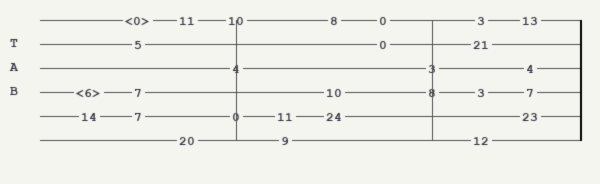0: (232, 110, 244, 122), (379, 38, 391, 50), (379, 14, 391, 26)
10: (228, 14, 248, 26), (326, 86, 346, 98)
11: (179, 14, 199, 26), (277, 110, 297, 122)
12: (473, 134, 493, 146)
13: (522, 14, 542, 26)
14: (81, 110, 101, 122)
20: (179, 134, 199, 146)
21: (473, 38, 493, 50)
23: (522, 110, 542, 122)
24: (326, 110, 346, 122)
3: (428, 62, 440, 74), (477, 14, 489, 26), (477, 86, 489, 98)
4: (232, 62, 244, 74), (526, 62, 538, 74)
5: (134, 38, 146, 50)
7: (134, 110, 146, 122), (134, 86, 146, 98), (526, 86, 538, 98)
8: (330, 14, 342, 26), (428, 86, 440, 98)
9: (281, 134, 293, 146)
harmonic: (76, 86, 105, 98), (125, 14, 154, 26)
